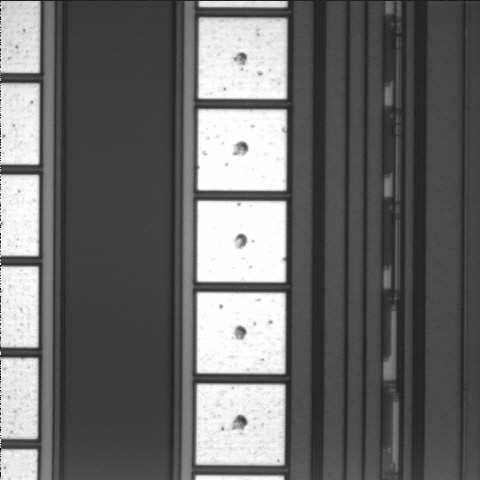pad: (197, 109, 287, 191), (197, 292, 286, 374), (198, 18, 287, 99), (197, 201, 286, 282), (196, 384, 285, 465)
